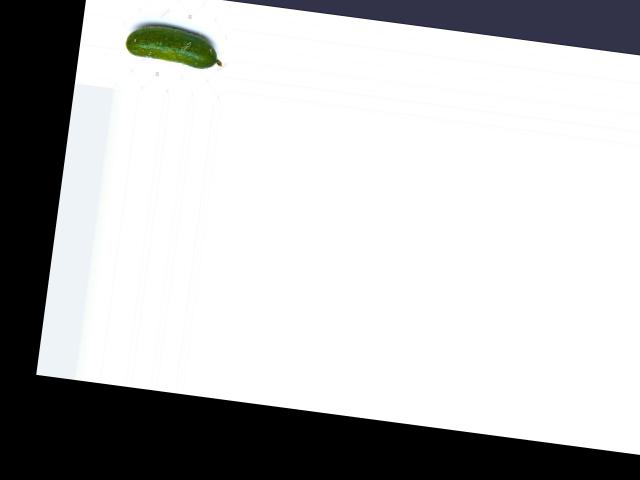cucumber: (123, 21, 225, 71)
